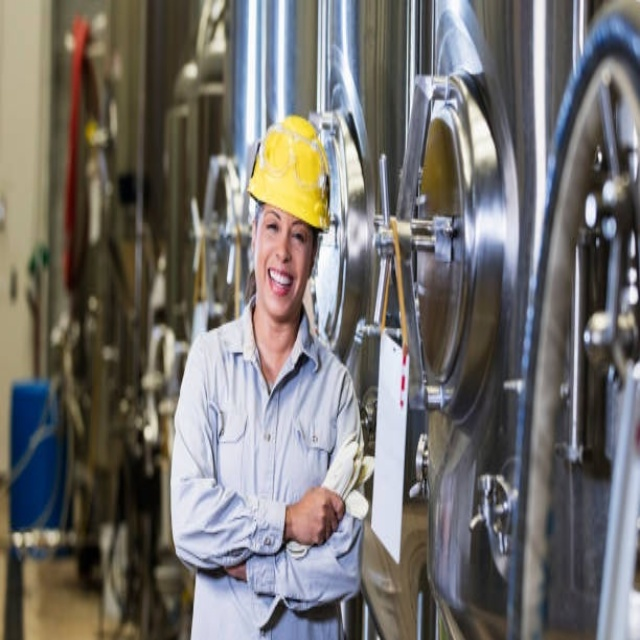Sin_gafas: (262, 215, 311, 258)
Sin_guantes: (284, 486, 349, 545)
Sin_mascara: (262, 262, 297, 302)
